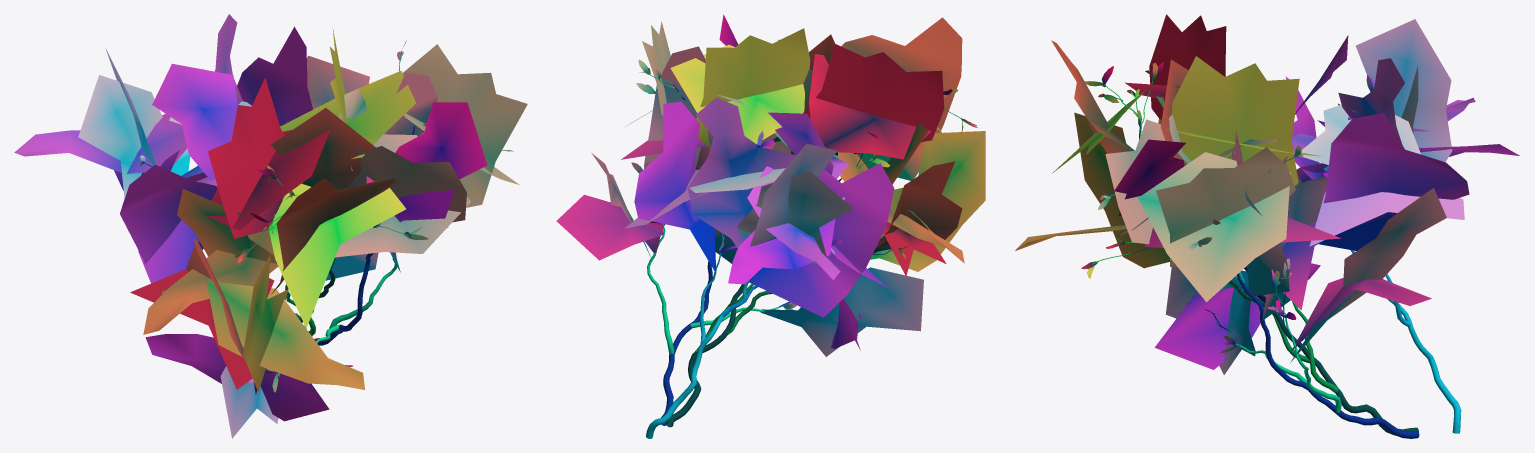
File: Downy_Willow_wknlfiuqx_Mid_wknlfiuqx_VarG_LOD2.fbx
3 views of the same model, side by side, from view 1: azimuth 30°, elevation 25°; view 2: azimuth 150°, elevation 25°; view 3: azimuth 270°, elevation 25° (orthographic). The views are drawn at different scales.
Parts seen in each view (by area): view 1: _vloh_VarG_LOD3; view 2: _vloh_VarG_LOD3; view 3: _vloh_VarG_LOD3.
Part boxes in pixels (<box>): _vloh_VarG_LOD3: <box>14,14,527,438</box>; _vloh_VarG_LOD3: <box>556,14,985,438</box>; _vloh_VarG_LOD3: <box>1015,14,1519,438</box>.
Bounding box in the file's own units: 165 × 156 × 194.
